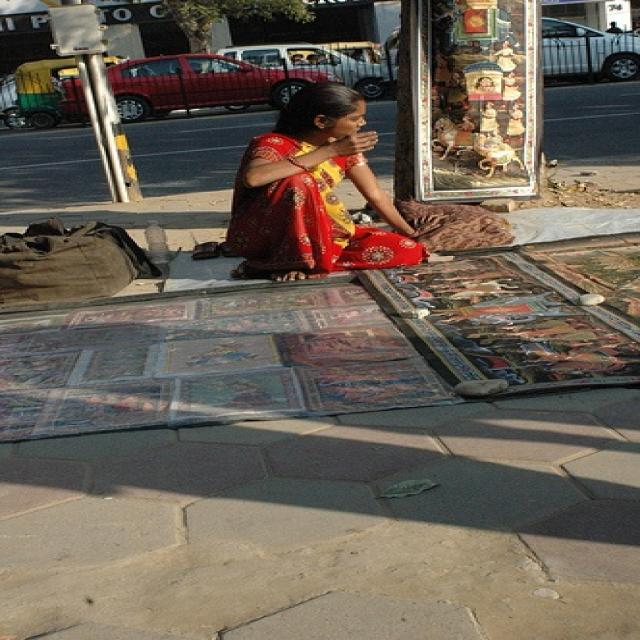car: (382, 5, 638, 95), (58, 48, 343, 126), (204, 41, 403, 111)
